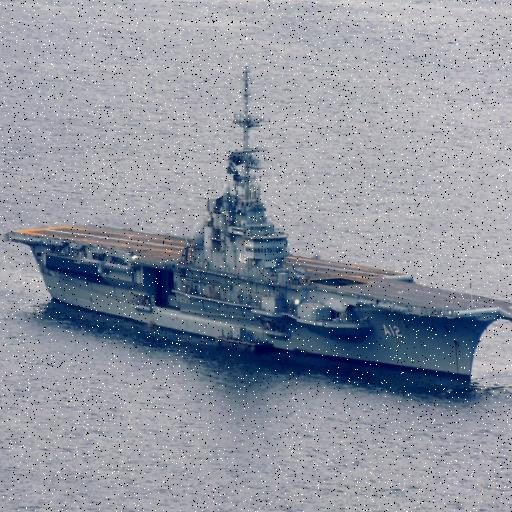Portanaves: (1, 57, 512, 398)
